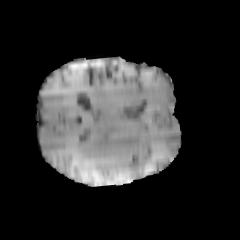glioma: (75, 126, 145, 175)
